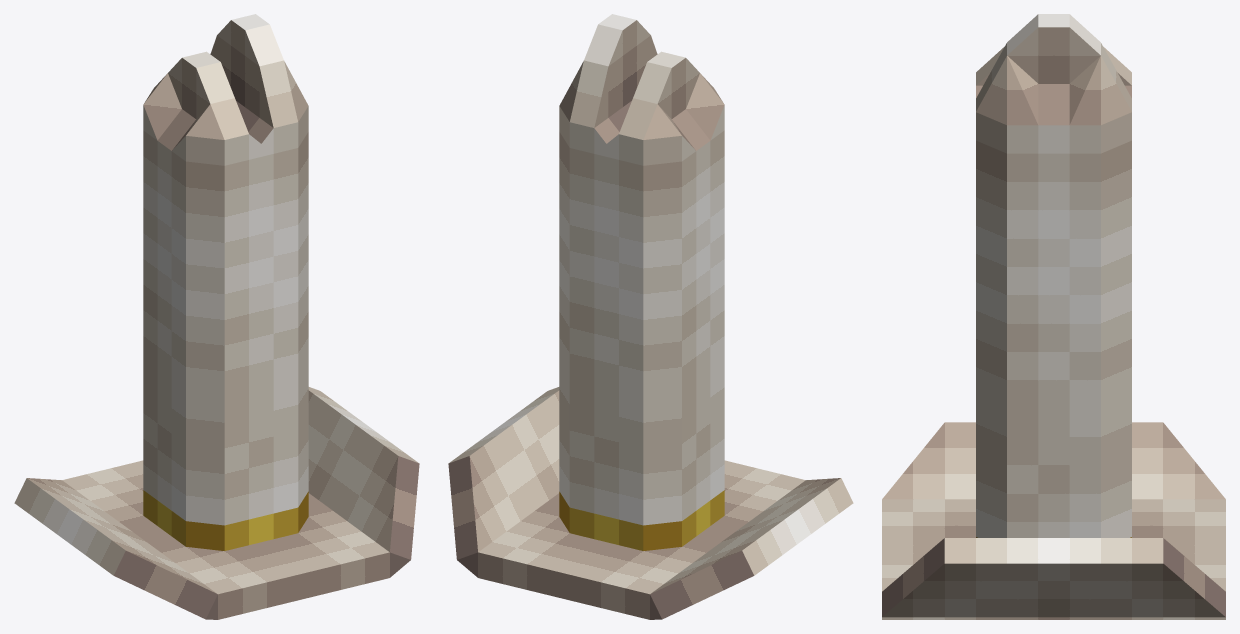
File: hat_dimmadome.obj
3 views of the same model, side by side, from view 1: azimuth 30°, elevation 25°; view 2: azimuth 150°, elevation 25°; view 3: azimuth 270°, elevation 25° (orthographic). The views are drawn at different scales.
Parts seen in each view (by area): view 1: HAT_DIMMADOME_TALLER_Cube.060; view 2: HAT_DIMMADOME_TALLER_Cube.060; view 3: HAT_DIMMADOME_TALLER_Cube.060.
Part boxes in pixels (x1,y1,x2,y2): HAT_DIMMADOME_TALLER_Cube.060: [14, 14, 419, 619]; HAT_DIMMADOME_TALLER_Cube.060: [448, 14, 853, 619]; HAT_DIMMADOME_TALLER_Cube.060: [882, 14, 1225, 619].
Bounding box in the file's own units: 0.779 × 1.25 × 0.6875.
